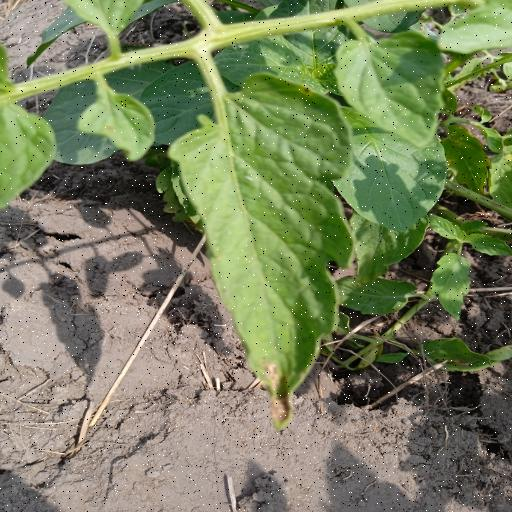Tomato_Mildiou: (162, 66, 360, 424)
